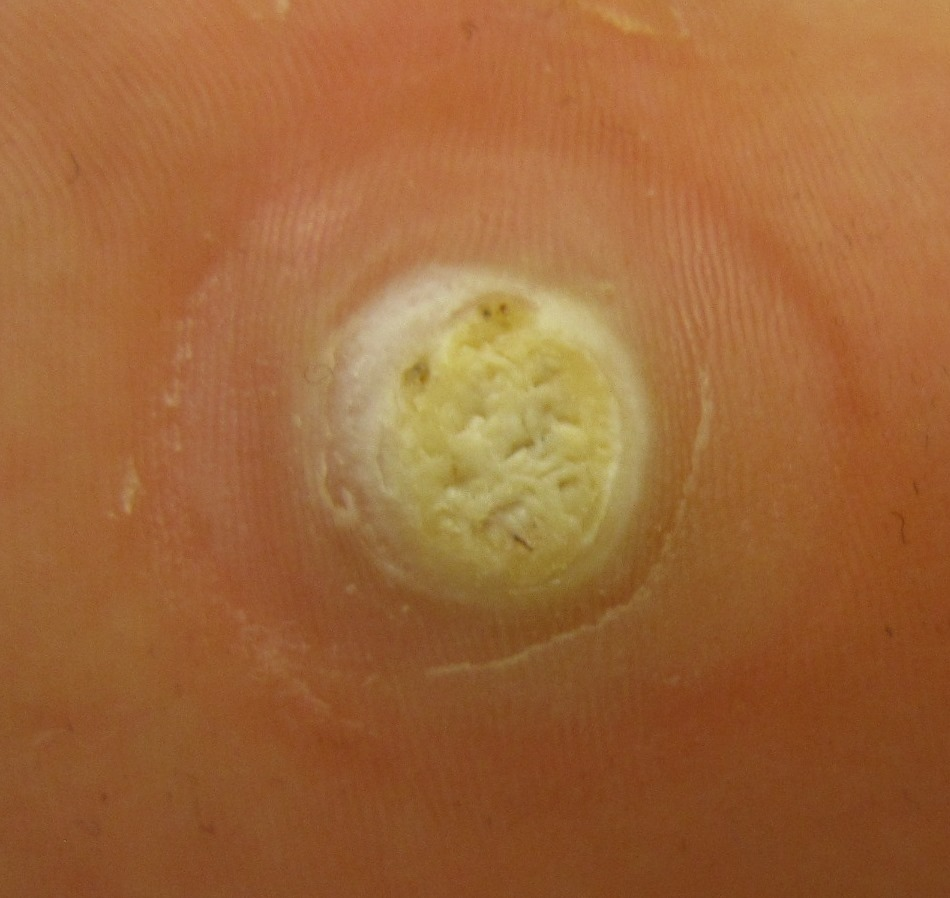Wart: (258, 211, 683, 641)
